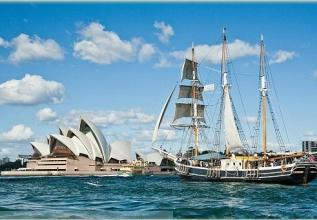fanchuan: (156, 24, 317, 183)
